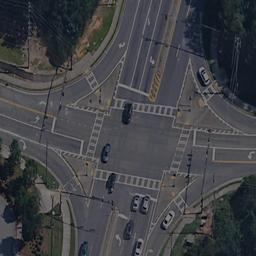Car: (130, 192, 153, 212), (120, 99, 136, 124), (158, 210, 175, 230), (197, 64, 209, 88), (100, 143, 113, 164), (105, 171, 116, 195), (123, 220, 135, 237), (135, 237, 145, 256)
Chevron: (170, 62, 231, 125), (70, 55, 124, 108), (147, 74, 160, 102)
Crosswalk: (93, 168, 160, 193), (167, 126, 190, 177), (112, 101, 176, 117), (84, 111, 105, 159), (63, 173, 77, 201), (176, 198, 190, 214), (202, 83, 213, 101), (88, 73, 99, 88)
Double Solid Yellow Line: (1, 96, 55, 119), (98, 209, 116, 256), (213, 158, 256, 166)
Left Turn Arrow: (114, 232, 122, 246), (31, 115, 39, 126), (246, 150, 255, 159), (118, 39, 126, 48)
Right Turn Arrow: (140, 246, 156, 256), (18, 140, 28, 154), (150, 54, 155, 65)
Solid White Line: (136, 1, 162, 91), (1, 114, 82, 141), (128, 1, 153, 86), (123, 1, 143, 51), (195, 146, 256, 149)
Stop Line: (50, 148, 101, 205), (145, 174, 194, 230), (117, 82, 149, 97), (49, 119, 57, 133), (116, 211, 128, 219), (193, 127, 197, 146), (79, 137, 83, 156), (212, 146, 216, 162)
White Dashed Line: (169, 1, 193, 74)
